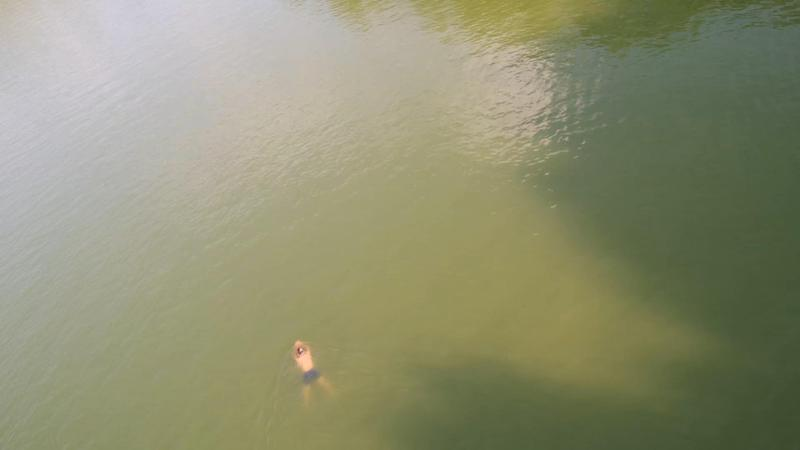swimmers: (289, 338, 337, 408)
